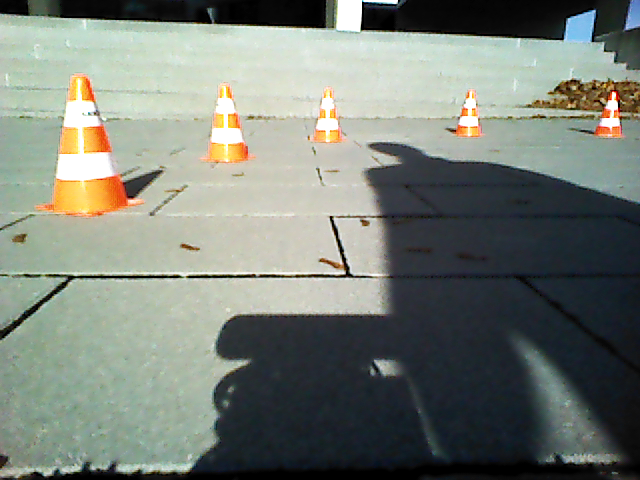orangeconesmall: (40, 75, 140, 216), (201, 84, 254, 163), (310, 88, 342, 144), (453, 90, 484, 139), (594, 90, 622, 139)
